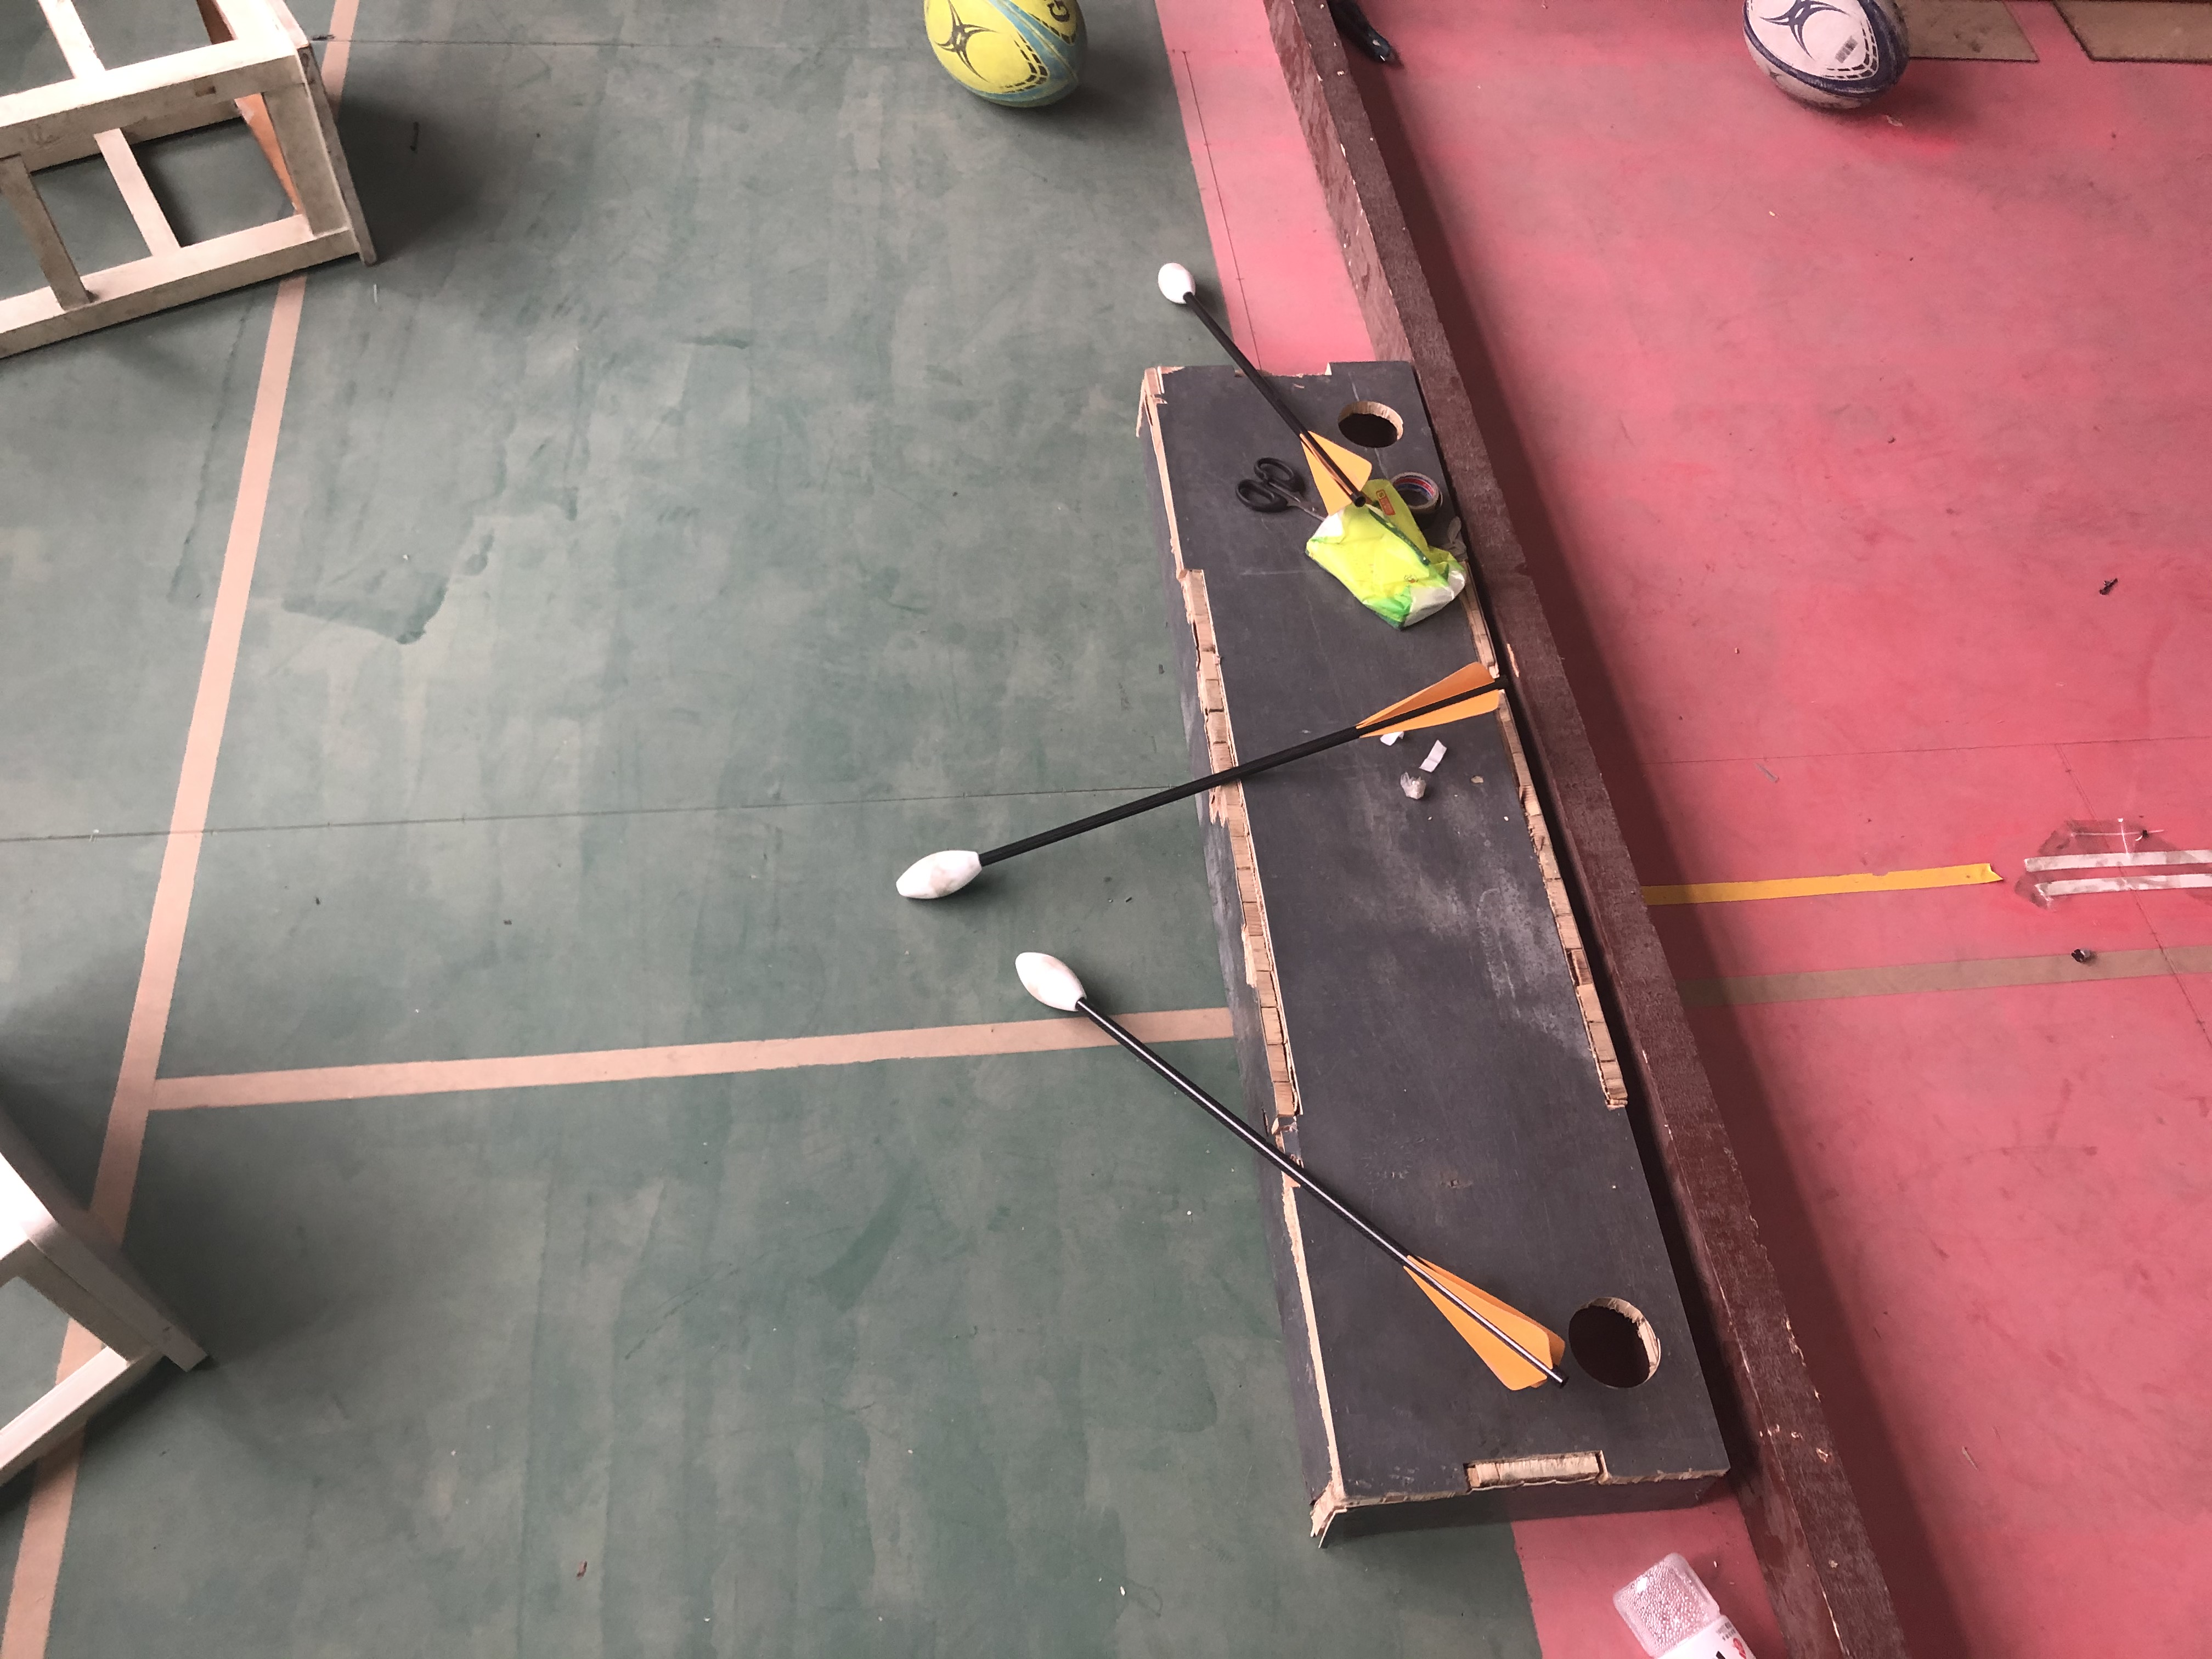arrow: (1014, 948, 1585, 1394), (895, 655, 1507, 915), (1153, 254, 1372, 512)
arrowFront: (1008, 943, 1085, 1014), (899, 843, 991, 901), (1153, 261, 1197, 305)
